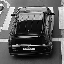motor: (13, 6, 51, 56)
